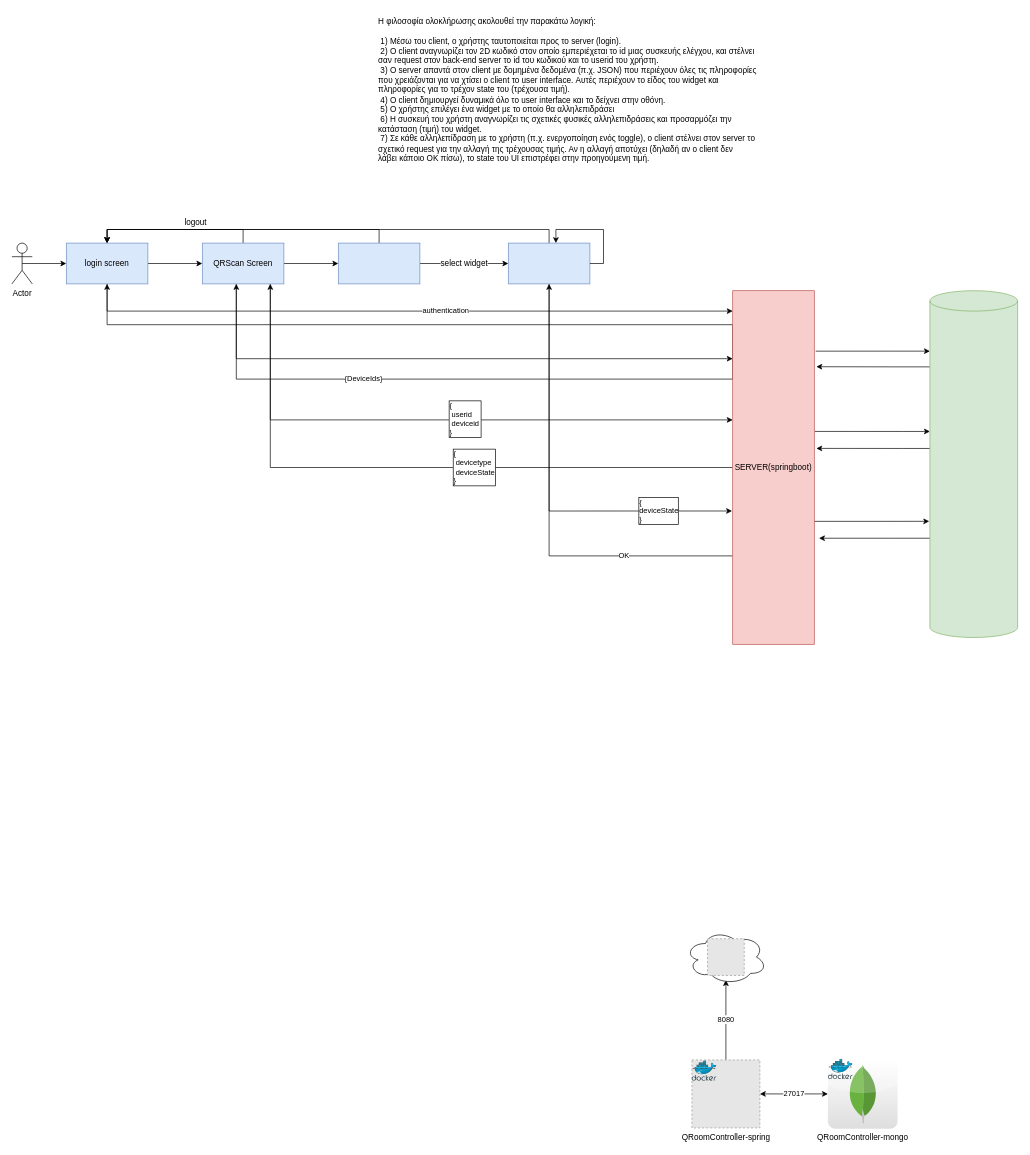
Image size: 1030x1155. Some labels were removed from this diagram. Grey dashed boxes stand in for pictures. Here are the shapes that lost their labels. From the top down, the centre of each, then its label:
At (x=379, y=263): "Dynamic UI Sceen".
At (x=549, y=263): "Gesture Recognition Screen".
At (x=973, y=464): "DB(mongo)".
